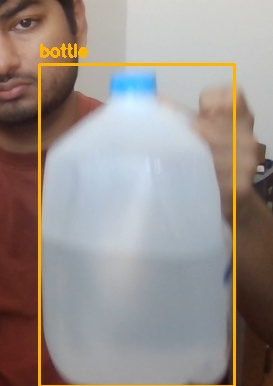bottle: (39, 64, 234, 386)
